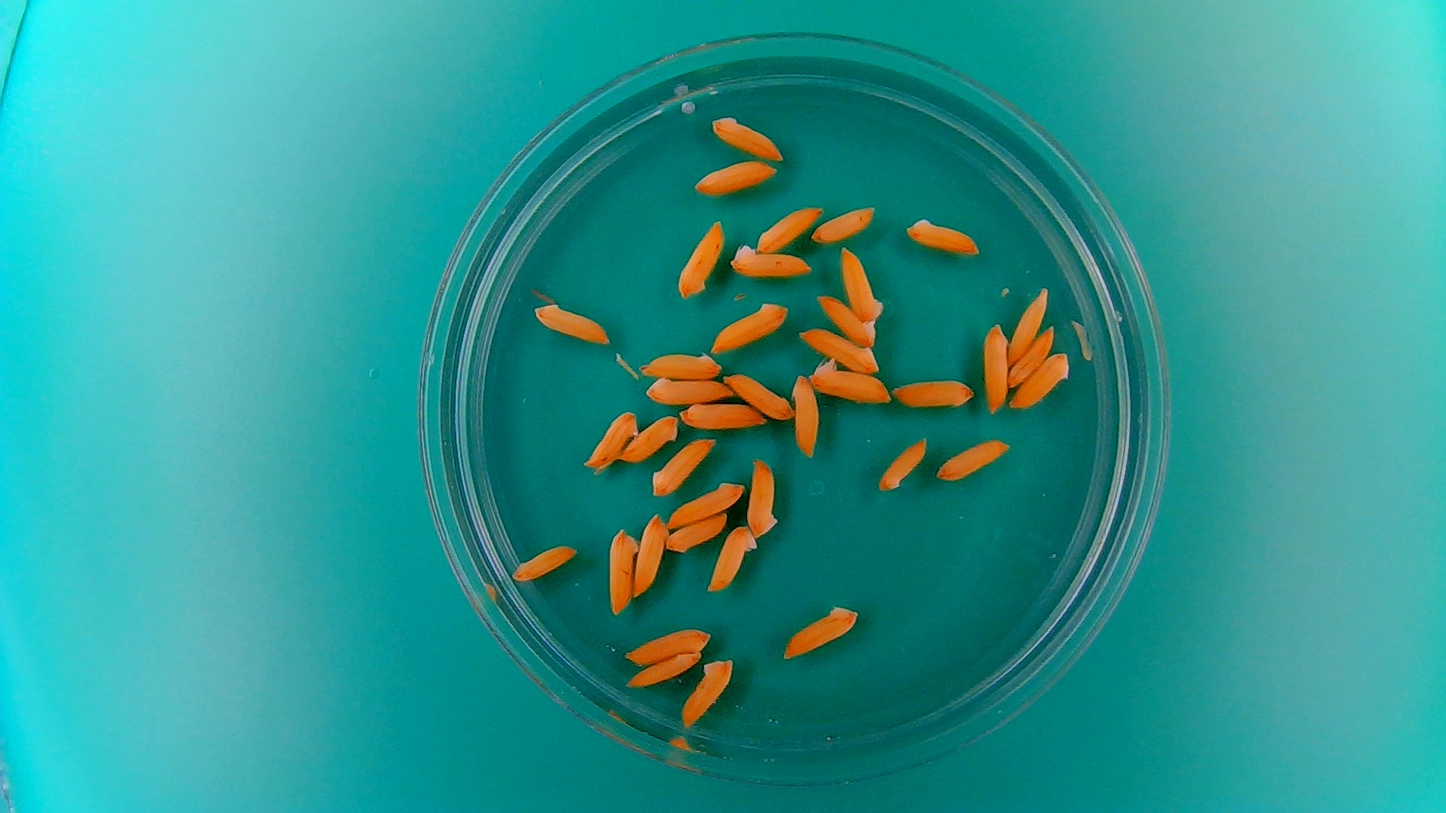no: (777, 600, 862, 662), (707, 299, 790, 354), (706, 111, 788, 163), (674, 218, 726, 300), (648, 435, 715, 497), (529, 298, 613, 347), (798, 327, 884, 374), (680, 656, 735, 729), (809, 356, 889, 405), (933, 435, 1013, 484), (667, 478, 746, 527), (839, 245, 886, 326), (1011, 350, 1073, 411), (581, 406, 638, 472), (706, 522, 758, 594), (622, 624, 711, 665), (755, 202, 825, 254), (723, 370, 795, 420), (813, 292, 878, 347), (727, 240, 813, 281), (631, 510, 670, 598), (902, 215, 982, 257), (617, 412, 680, 464), (693, 158, 779, 196), (1008, 285, 1051, 361), (1008, 324, 1057, 389), (876, 434, 929, 494), (624, 648, 703, 688), (606, 525, 639, 618), (644, 375, 734, 409), (746, 453, 781, 539), (789, 371, 822, 460), (509, 542, 580, 583), (892, 376, 977, 410), (812, 203, 877, 245), (679, 400, 767, 431), (665, 513, 729, 555), (982, 318, 1009, 414), (639, 348, 722, 379)
